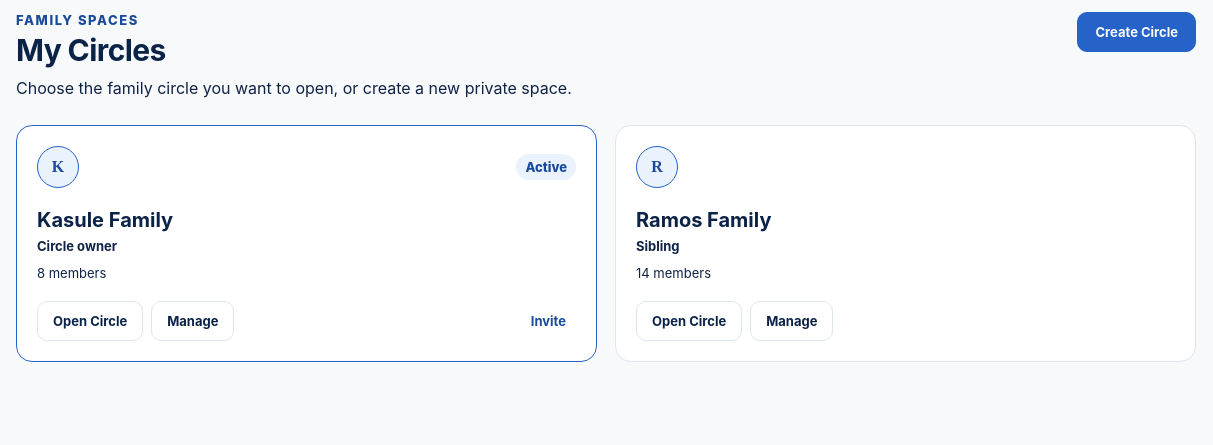
MyCircles › stays on the page with safe copy when protected selection fails
Click the button with aria-label "Open Ramos Family" at (689, 321), box [636,301,742,341]
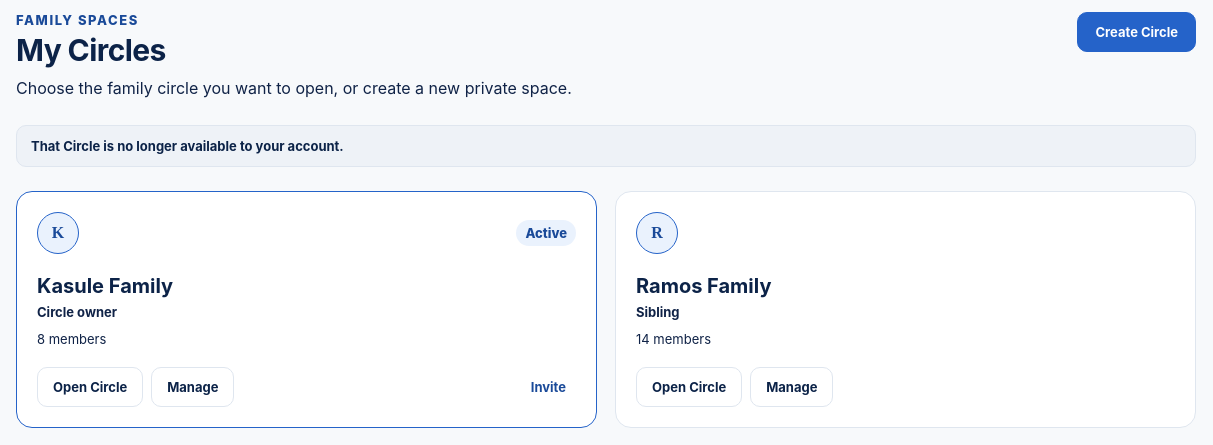
Check: the heading "My Circles" is shown, box [16,32,166,68]
Check: the text "That Circle is no longer available to your account." is shown, box [16,125,1196,167]
